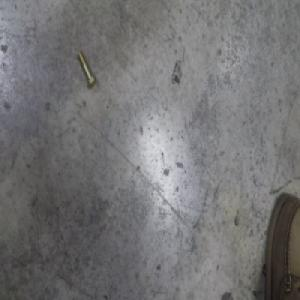Bolt: (77, 48, 97, 89)
